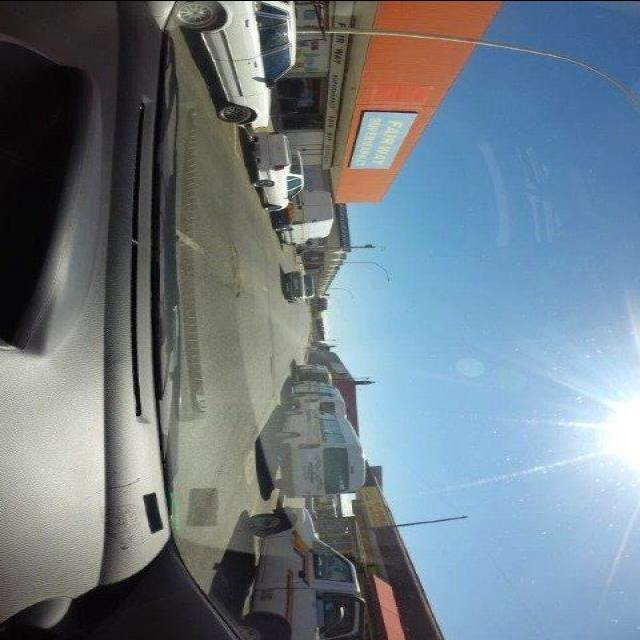lubang: (226, 239, 246, 300)
